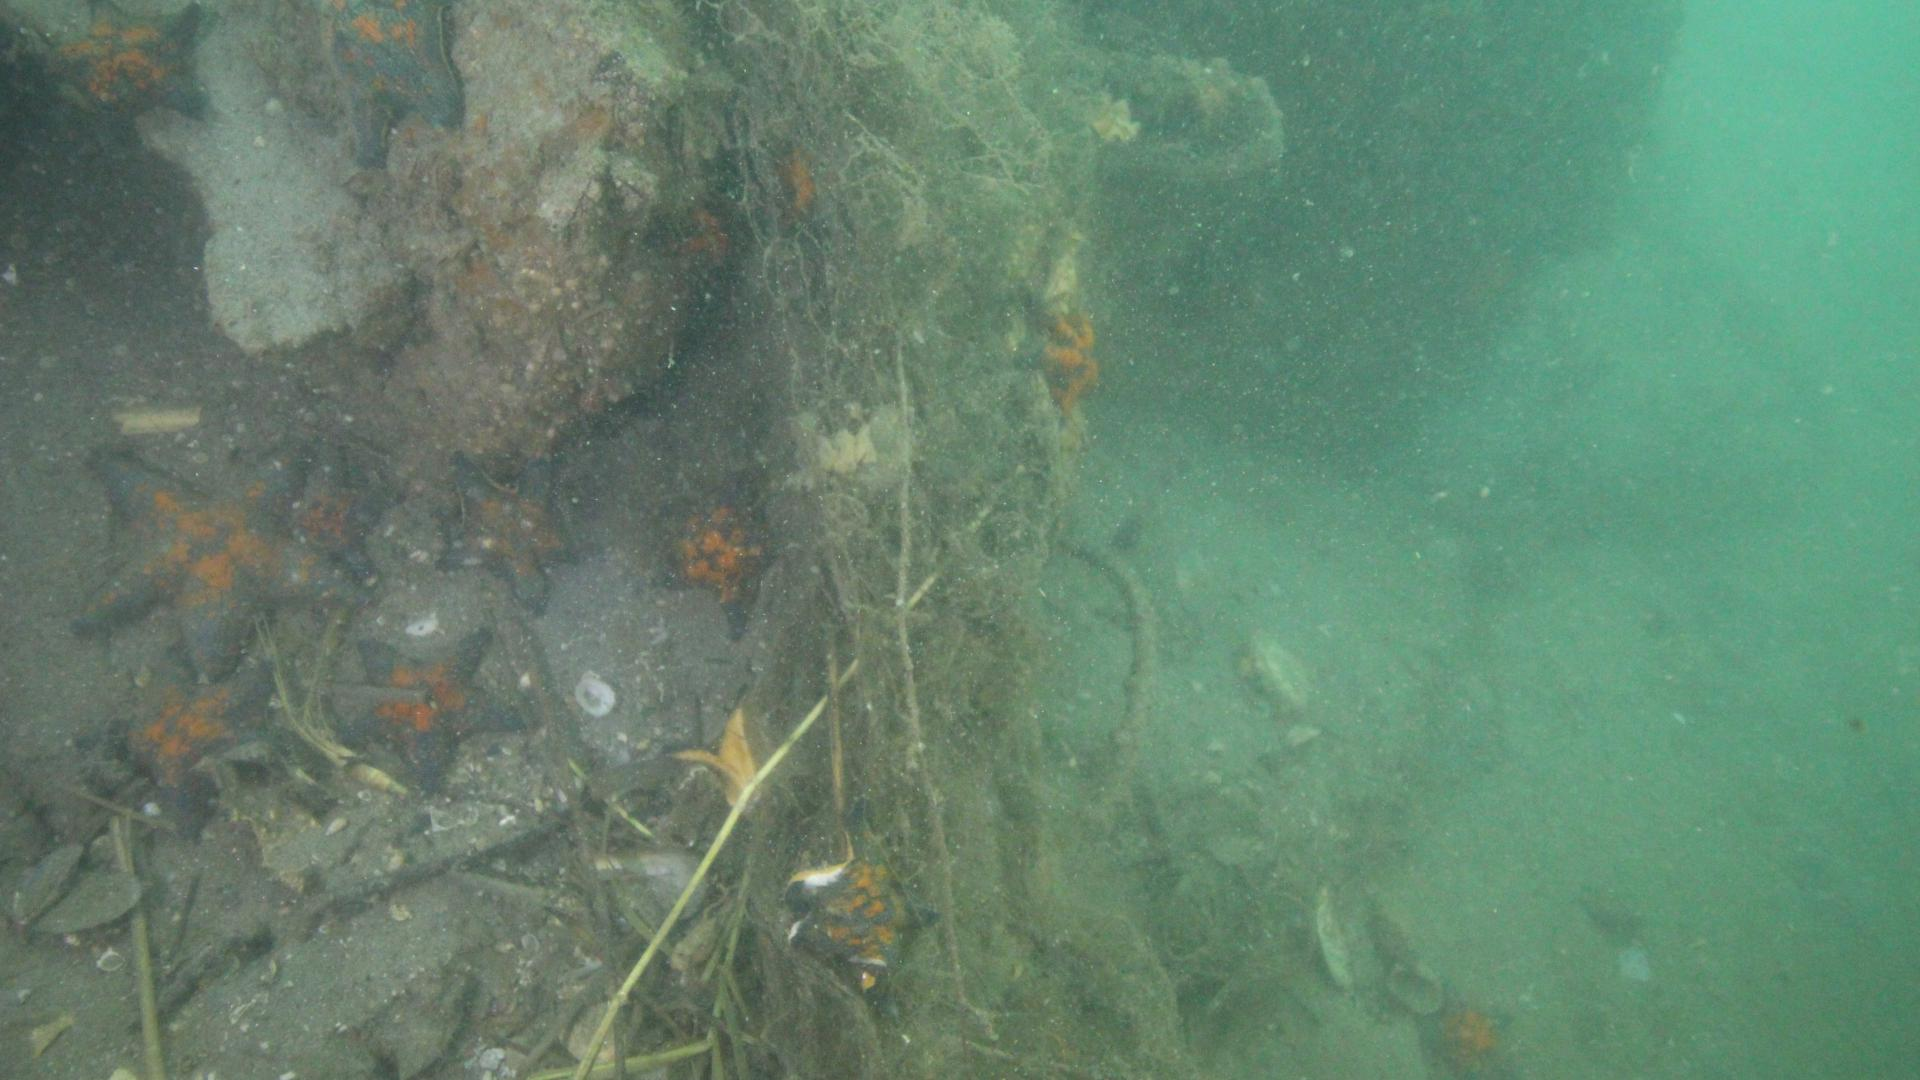rope: (1056, 530, 1159, 808)
